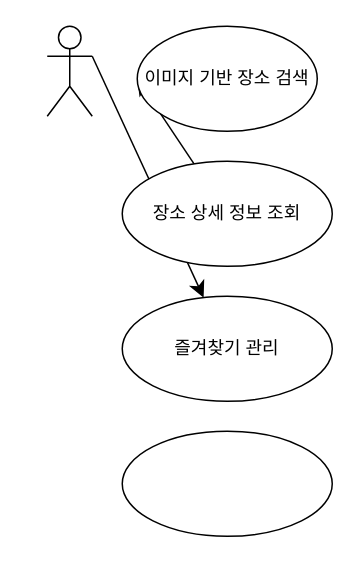
The diagram is 359 pixels wide and 563 high, and some of its shapes have lost their labels. The centre of each missing label's shape, as x and y in pixels:
"일반 사용자" goes at pixel 69 70.
"회원 인증 및 계정 관리" goes at pixel 226 483.
